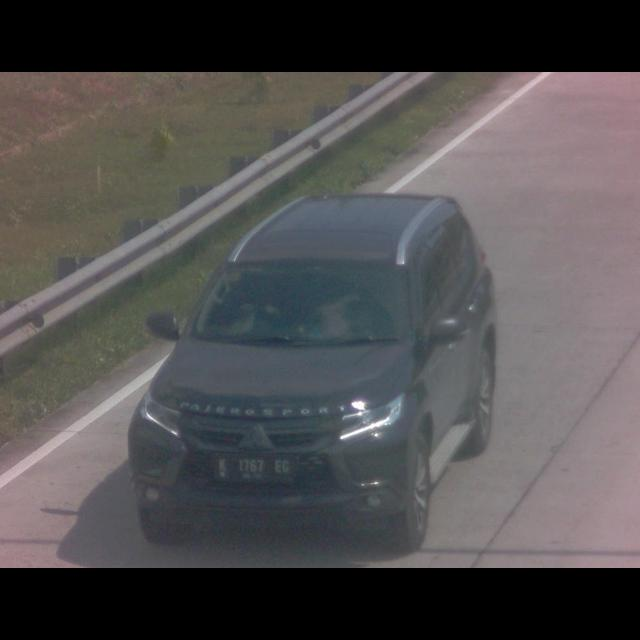plate: (210, 450, 296, 484)
